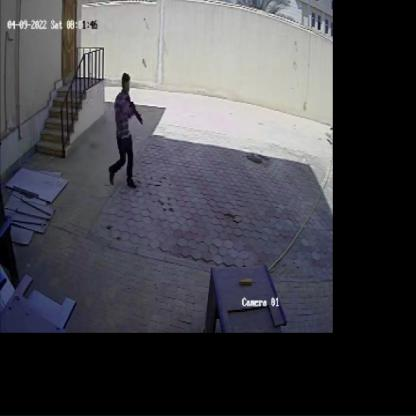handgun: (126, 95, 145, 130)
